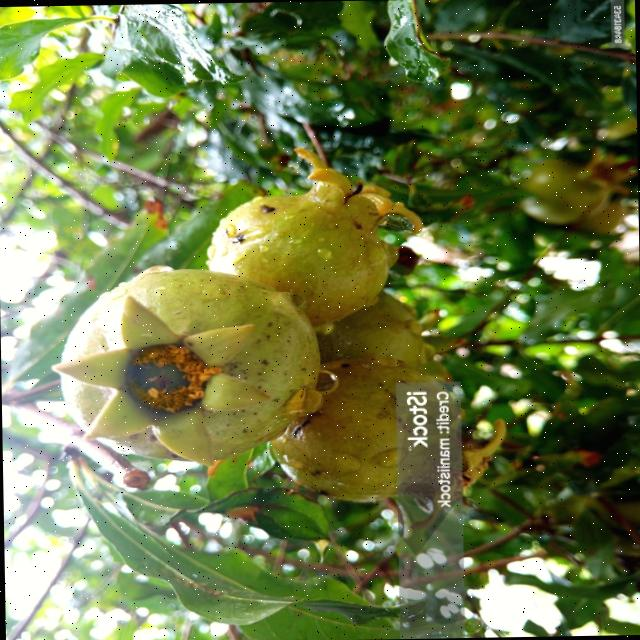Unripe: (50, 263, 324, 464), (203, 143, 400, 322)
